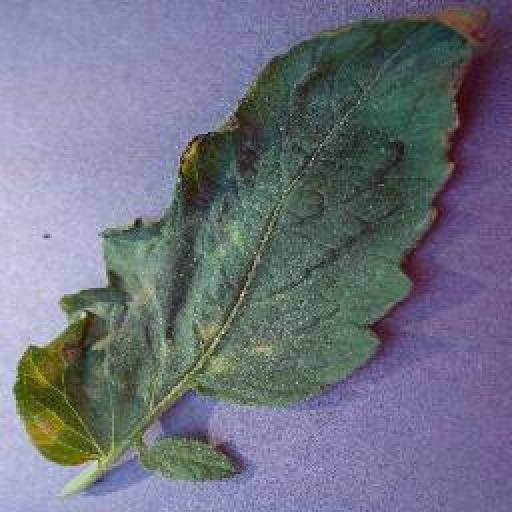Leaf Mold: (16, 7, 495, 484)
